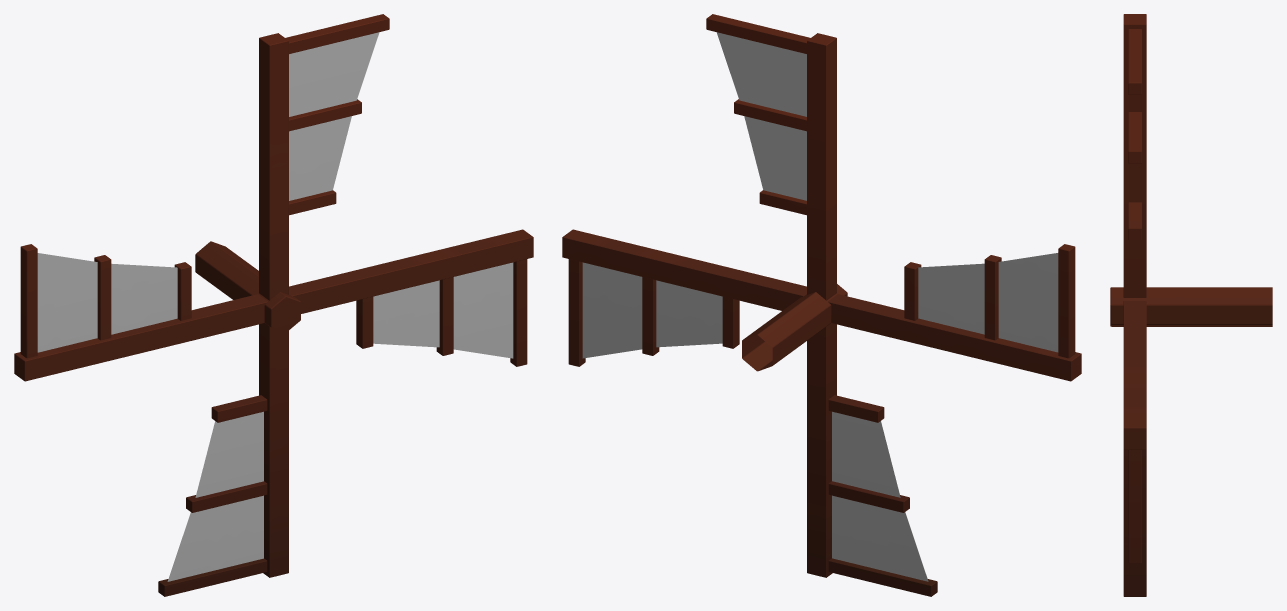
Rendered from FBX_WindmillWing.fbx.
The picture shows the model from 3 angles, left to right: view 1: azimuth 30°, elevation 25°; view 2: azimuth 150°, elevation 25°; view 3: azimuth 270°, elevation 25°; orthographic projection. The views are drawn at different scales.
Parts seen in each view (by area): view 1: M_WindmillWing; view 2: M_WindmillWing; view 3: M_WindmillWing.
Boxes of the visible parts, x1,y1,x2,y2 form: M_WindmillWing: [14, 14, 533, 596]; M_WindmillWing: [562, 14, 1081, 596]; M_WindmillWing: [1110, 14, 1272, 596].
Bounding box in the file's own units: 13.05 × 13.05 × 3.35.
